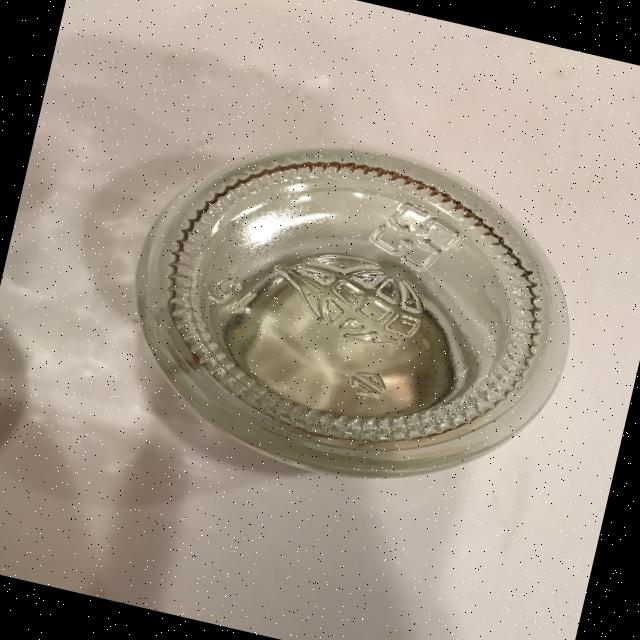glass: (100, 101, 602, 522)
